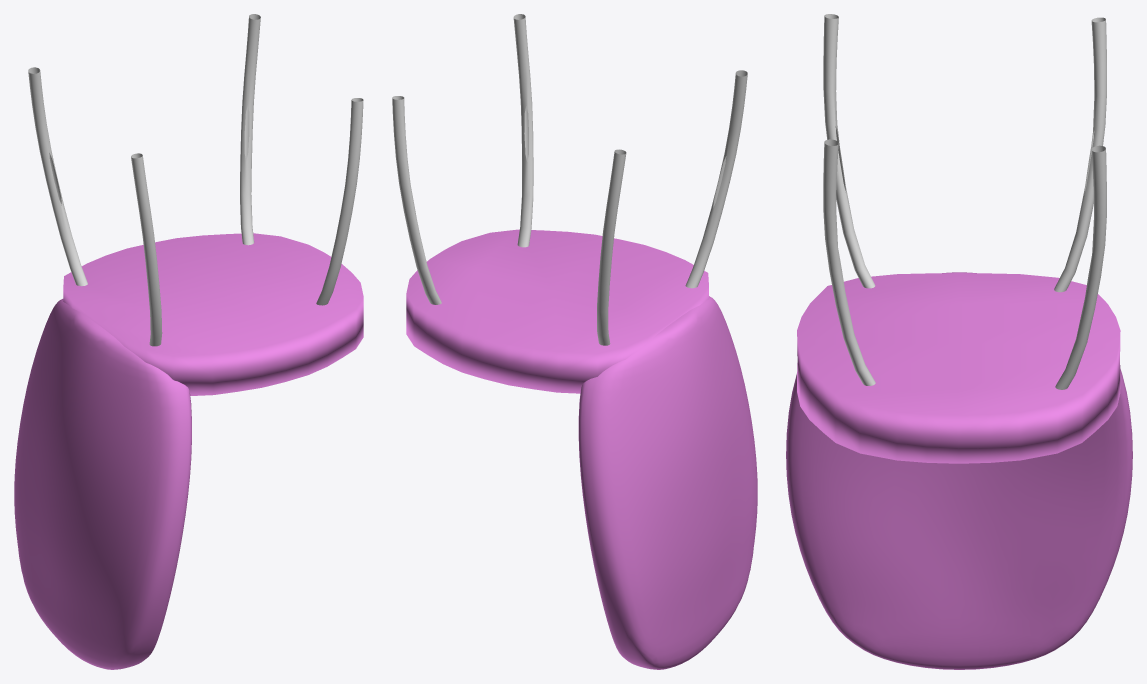
Rendered from chair.fbx.
3 views of the same model, side by side, from view 1: azimuth 30°, elevation 25°; view 2: azimuth 150°, elevation 25°; view 3: azimuth 270°, elevation 25° (orthographic). The views are drawn at different scales.
Parts seen in each view (by area): view 1: back, seat, Torus.001, Torus.002; view 2: back, seat, Torus.001, Torus.002; view 3: back, seat, Torus.001, Torus.002.
Part boxes in pixels (bbox=[...]): back: bbox=[14, 299, 191, 669]; seat: bbox=[63, 233, 363, 395]; Torus.001: bbox=[240, 14, 363, 305]; Torus.002: bbox=[28, 67, 162, 346]; back: bbox=[578, 296, 757, 669]; seat: bbox=[406, 229, 708, 393]; Torus.001: bbox=[392, 14, 533, 304]; Torus.002: bbox=[597, 70, 747, 345]; back: bbox=[786, 272, 1132, 669]; seat: bbox=[797, 273, 1120, 463]; Torus.001: bbox=[823, 139, 1106, 389]; Torus.002: bbox=[823, 14, 1106, 292].
Bounding box in the file's own units: 252 × 471 × 228.
